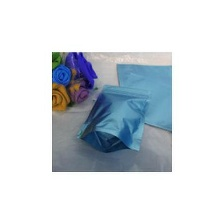snack: (69, 80, 155, 156)
